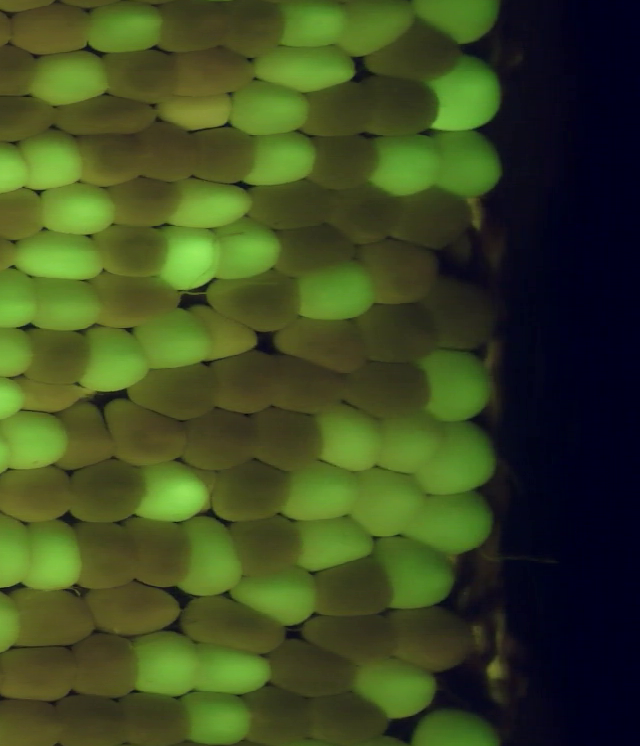fluorescent: (410, 413, 503, 504), (419, 47, 505, 140), (367, 529, 461, 614), (169, 509, 251, 604), (407, 344, 499, 425), (347, 652, 448, 725), (224, 561, 326, 633), (344, 463, 434, 544), (116, 625, 211, 701), (399, 488, 497, 558), (271, 457, 368, 526), (76, 322, 156, 402), (426, 125, 509, 202), (23, 42, 118, 109), (7, 225, 113, 285), (244, 41, 364, 94), (131, 455, 217, 528), (286, 512, 381, 577), (309, 398, 390, 474), (133, 302, 216, 376), (365, 129, 448, 203), (161, 174, 263, 234), (186, 637, 282, 700), (222, 74, 313, 140), (150, 219, 230, 294), (293, 258, 381, 326), (0, 406, 81, 477), (369, 409, 452, 478), (24, 270, 110, 336), (18, 517, 89, 596), (208, 215, 287, 286), (333, 1, 423, 63), (176, 682, 260, 746), (239, 128, 323, 192), (16, 126, 90, 198), (35, 177, 122, 238), (82, 1, 173, 59), (269, 1, 351, 59), (399, 703, 506, 746), (405, 1, 505, 47), (0, 506, 43, 594), (0, 265, 47, 332), (0, 134, 41, 203), (0, 365, 41, 426), (0, 581, 30, 663), (0, 321, 39, 381)
nonfluorescent: (173, 588, 295, 665), (357, 14, 472, 92), (375, 602, 483, 677), (97, 391, 197, 471), (202, 263, 313, 335), (293, 606, 408, 671), (417, 275, 511, 354), (352, 232, 448, 309), (258, 348, 363, 418), (0, 582, 102, 654), (334, 354, 438, 424), (385, 182, 480, 258), (349, 69, 447, 142), (86, 267, 191, 335), (242, 399, 334, 476), (260, 635, 367, 700), (304, 557, 405, 625), (75, 579, 189, 639), (124, 358, 225, 425), (64, 513, 149, 592), (296, 73, 386, 147), (116, 511, 199, 591), (275, 316, 377, 381), (351, 298, 447, 367), (166, 40, 264, 107), (173, 403, 264, 475), (224, 509, 312, 583), (58, 454, 153, 522), (46, 91, 168, 143), (67, 627, 151, 701), (267, 220, 364, 284), (203, 459, 301, 522), (181, 296, 269, 366), (96, 38, 183, 107), (0, 461, 85, 529), (49, 400, 125, 476), (298, 686, 394, 746), (108, 685, 202, 746), (203, 348, 288, 414), (326, 182, 413, 246), (101, 172, 188, 235), (15, 324, 99, 389), (238, 176, 341, 229), (150, 1, 242, 60), (185, 122, 264, 190), (69, 125, 150, 191), (89, 221, 177, 281), (237, 682, 319, 746), (4, 6, 99, 61), (306, 132, 388, 195), (0, 642, 84, 702), (53, 689, 136, 746), (216, 1, 291, 64), (133, 118, 203, 183), (153, 89, 242, 138), (9, 370, 102, 414), (0, 692, 75, 746), (0, 90, 69, 148), (0, 182, 54, 246), (0, 42, 47, 103)
